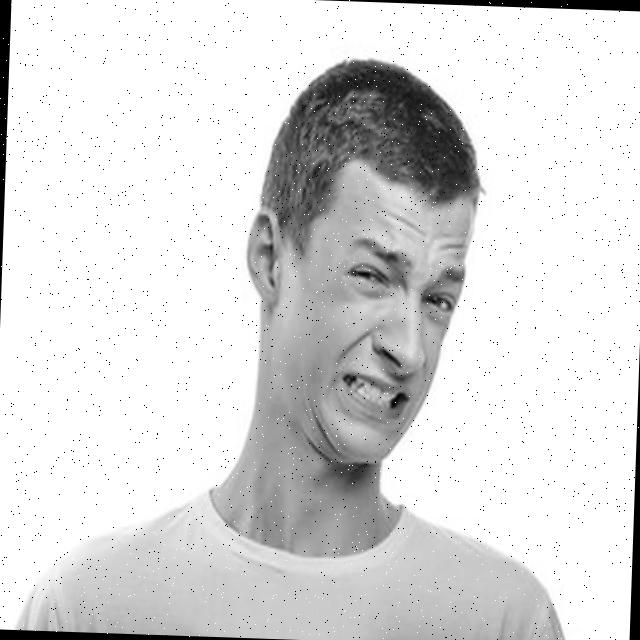Disgust: (275, 166, 477, 467)
